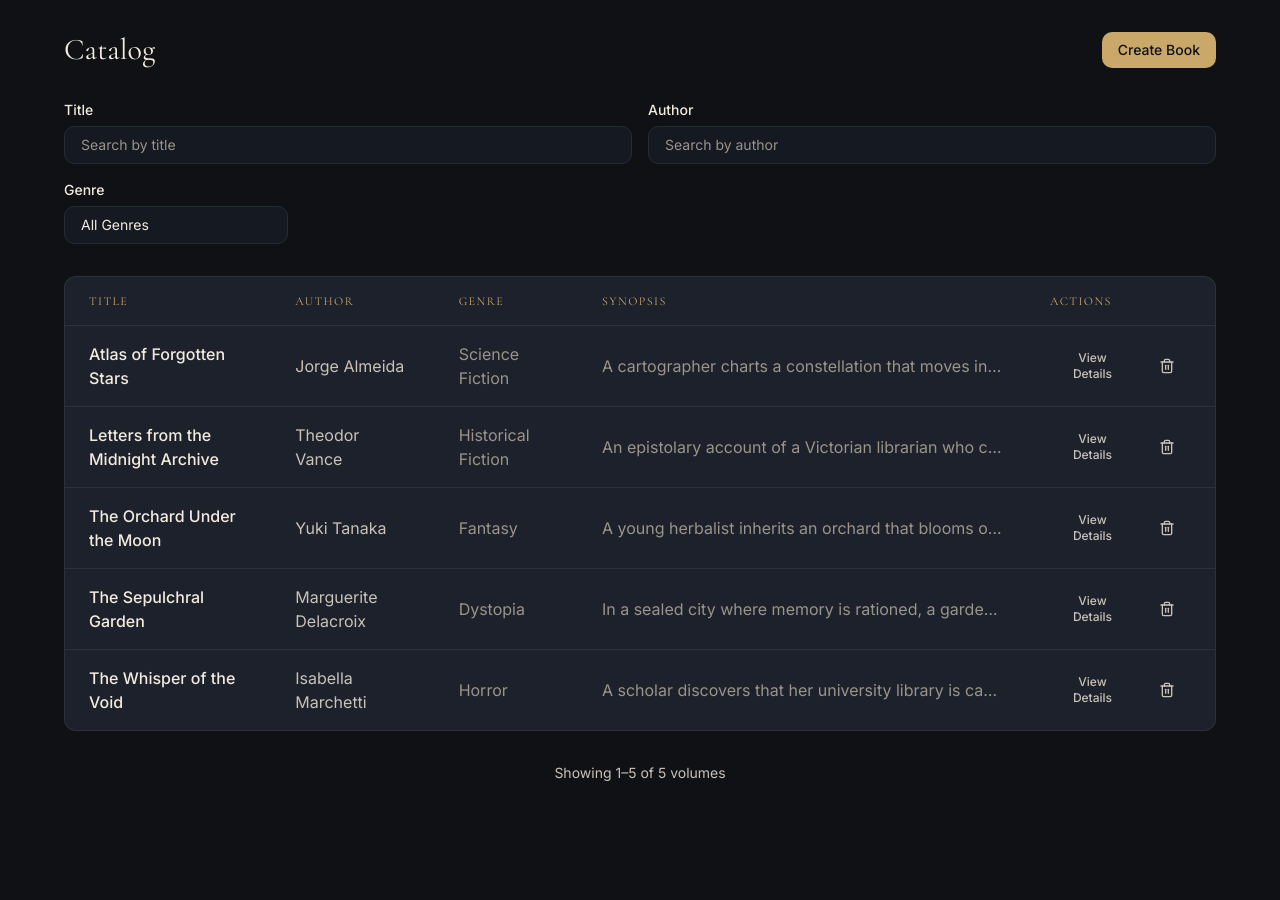
it: BooksPage › keeps the book when the deletion is cancelled
The width and height of the screenshot is (1280, 900).
Expected: the text "The Whisper of the Void" is shown, [65,650,271,730]
Click the button named "Delete The Whisper of the Void".
click(1167, 690)  # box [1143,674,1191,706]
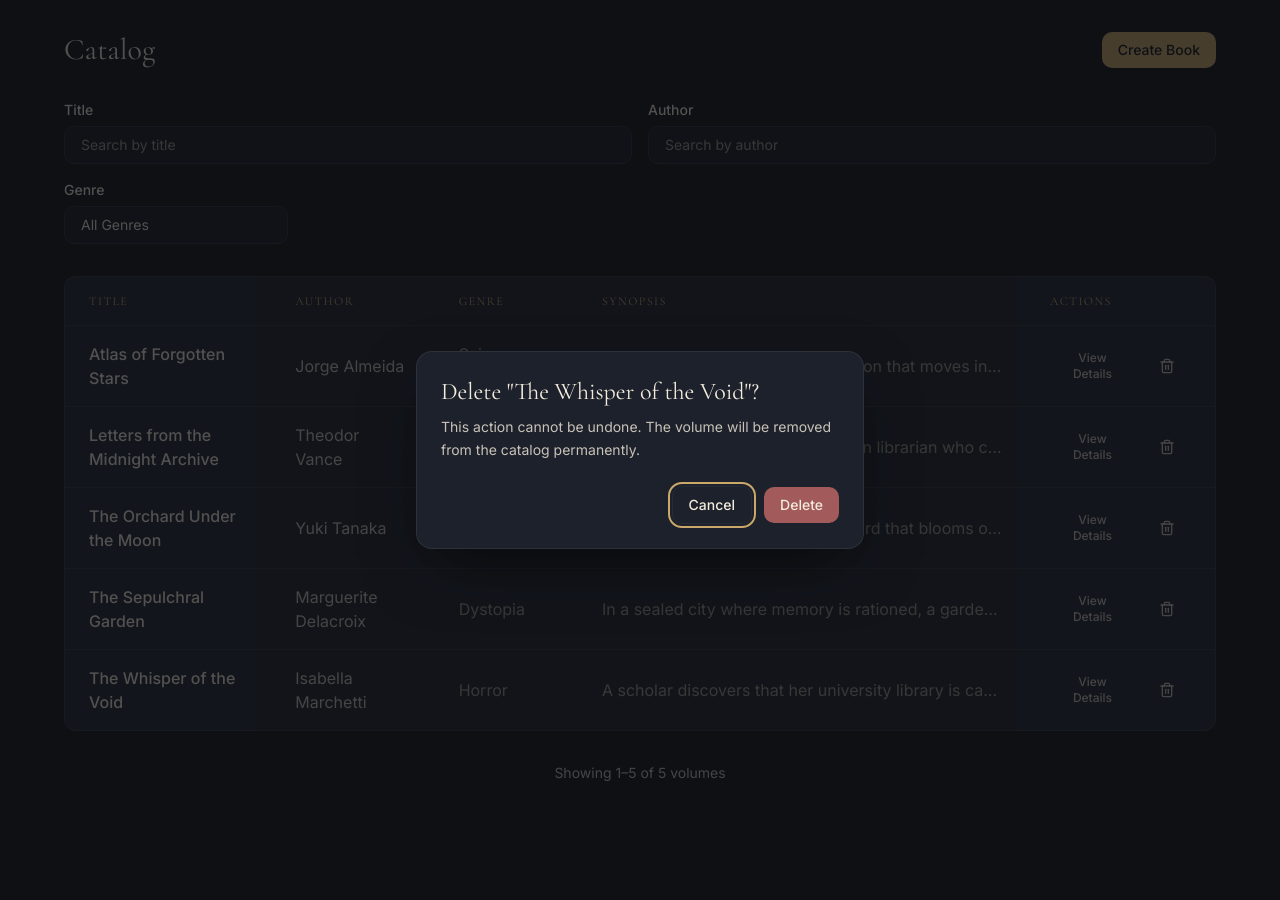
Click the button "Cancel".
click(712, 505)  # box [672,486,752,524]
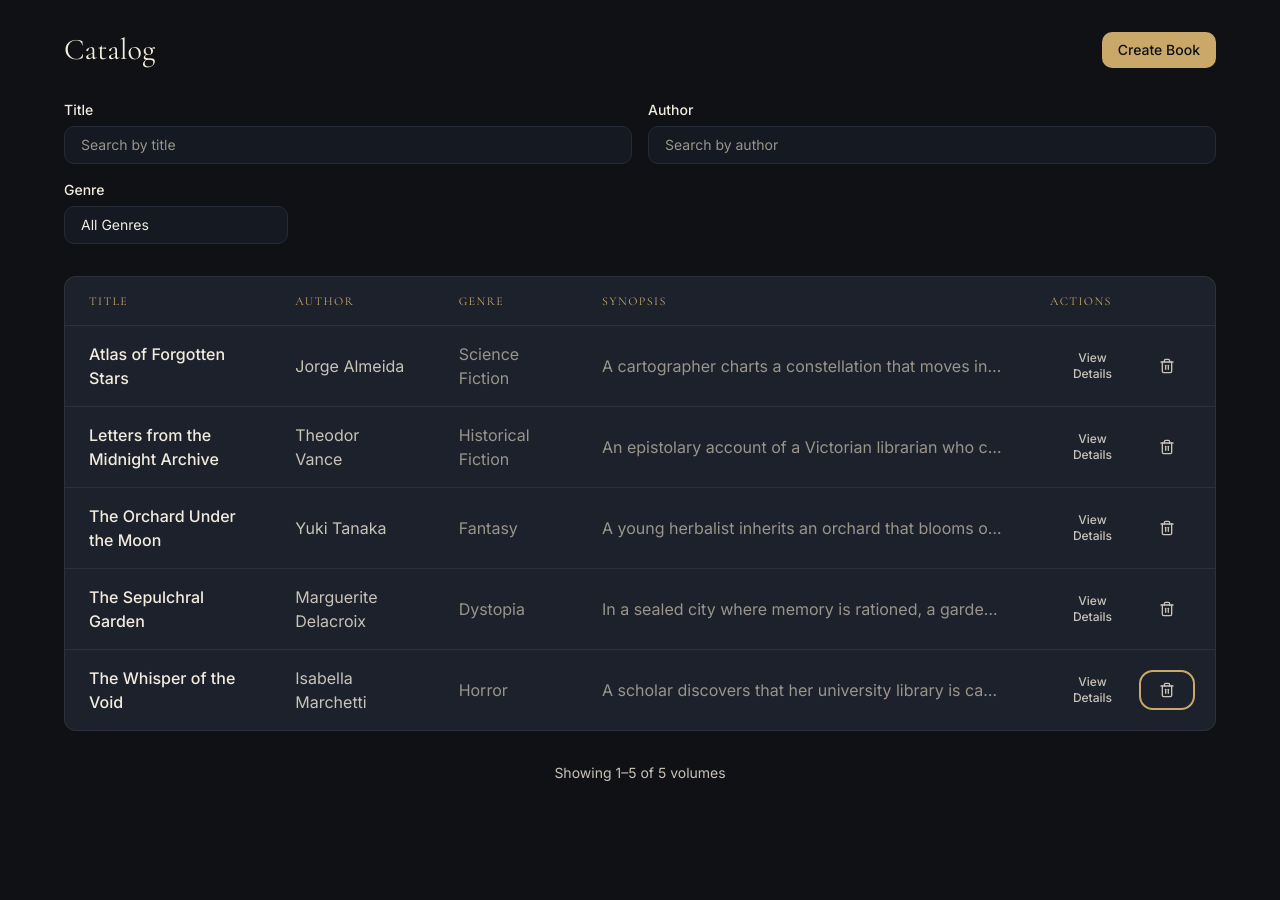
Expected: the text "The Whisper of the Void" is shown, [65,650,271,730]
Expected: the dialog is gone
